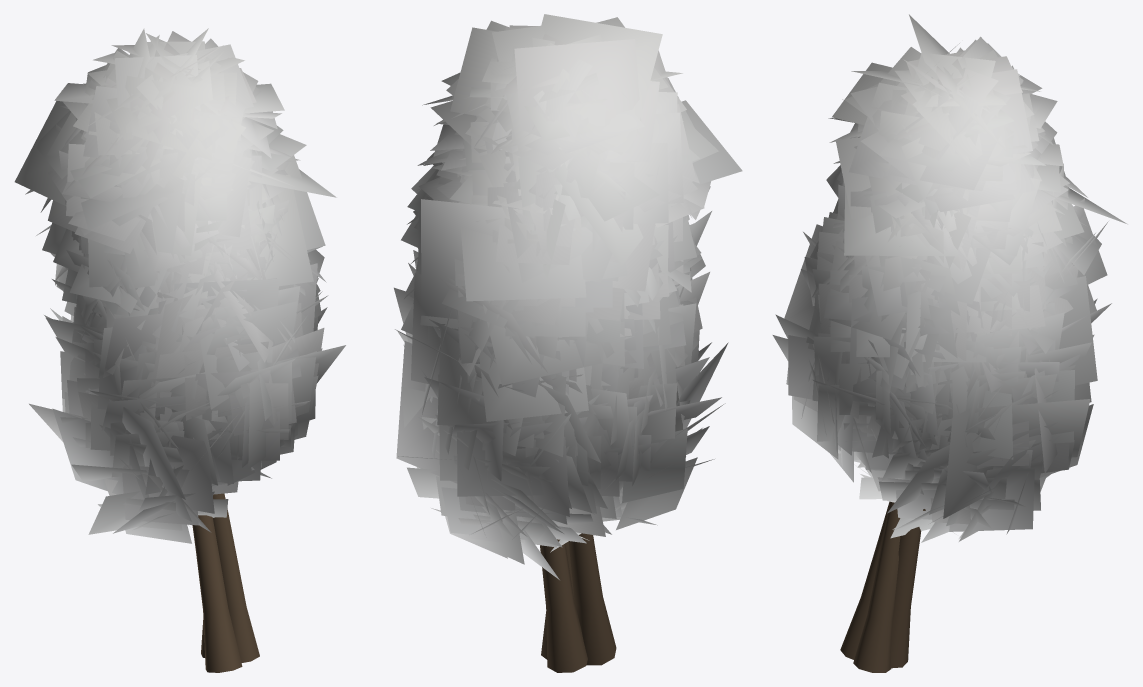
3 renders of one model, left to right at view 1: azimuth 30°, elevation 25°; view 2: azimuth 150°, elevation 25°; view 3: azimuth 270°, elevation 25°, orthographic. The views are drawn at different scales.
Visible parts, largest first — view 1: crown, trunk; view 2: crown, trunk; view 3: crown, trunk.
Boxes of the visible parts, x1,y1,x2,y2 form: crown: (14,28,345,543); trunk: (192,493,259,672); crown: (394,14,742,579); trunk: (540,533,616,672); crown: (772,14,1127,542); trunk: (840,501,925,672).
Bounding box in the file's own units: 5.64 × 12.34 × 6.6.
